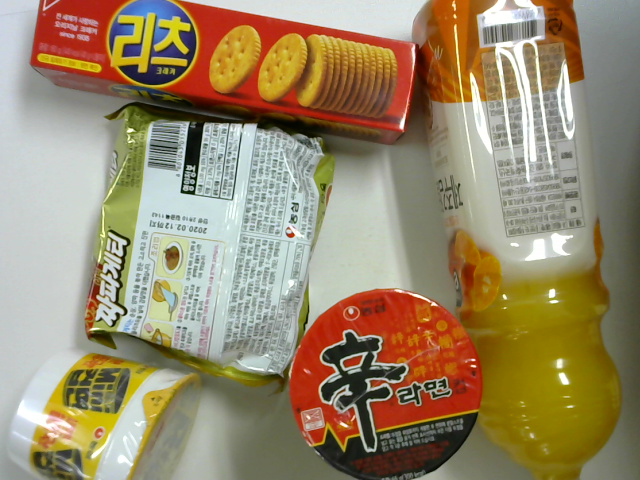Hejangmini: (9, 344, 196, 480)
Jeju_Tangerine_1.5L: (413, 10, 629, 480)
Olive_Chapaghetti: (85, 104, 333, 390)
Ritz_Cracker: (29, 4, 423, 140)
Sinramen_small: (285, 290, 487, 480)
